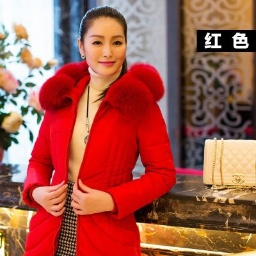face: (77, 5, 128, 75)
